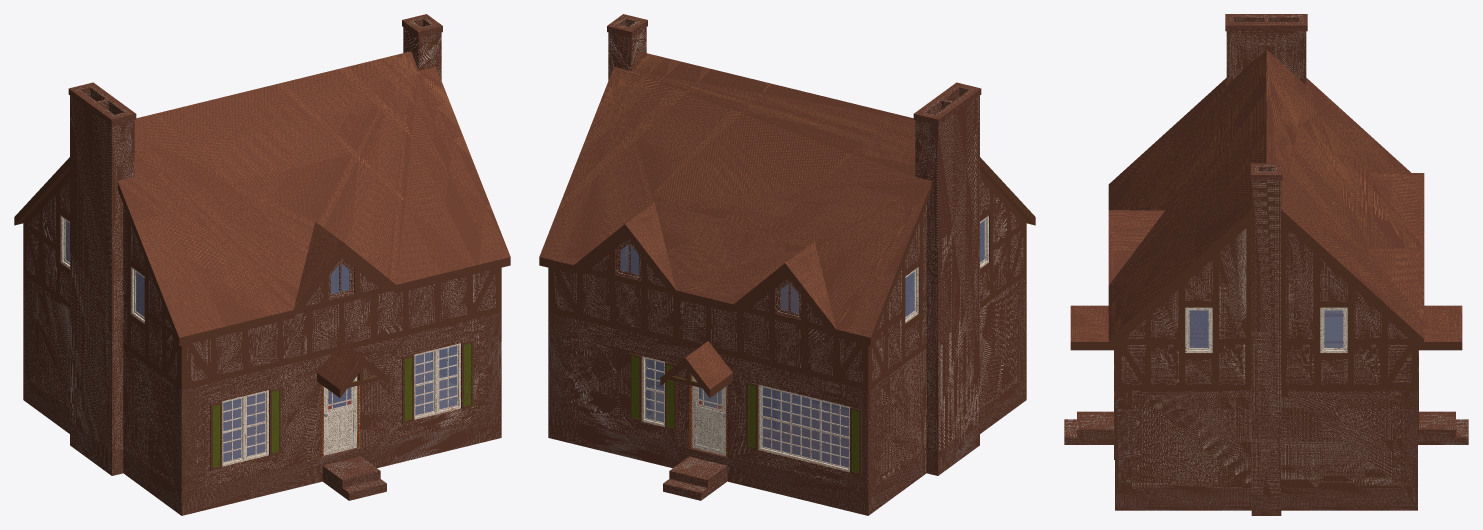
The model's file is Casa.fbx.
3 renders of one model, left to right at view 1: azimuth 30°, elevation 25°; view 2: azimuth 150°, elevation 25°; view 3: azimuth 270°, elevation 25°, orthographic. The views are drawn at different scales.
Parts seen in each view (by area): view 1: Component1, G_36__door2, Component_6_4, Component_6_1, Component_6_3, Component_6_2, Component_1_3, Component_4_2, Component_4_5, Component_4_4, Component_4_6, Component_7_4; view 2: Component1, Component_3_1, G_36__door1, Component_9_1, Component_1_1, Component_1_2, Component_4_1, Component_4_7, Component_4_8, Component_4_3, Component_7_1; view 3: Component1, Component_7_2, Component_7_3.
Boxes of the visible parts, left/top/right/bottom form: Component1: left=14, top=14, right=510, bottom=515; G_36__door2: left=324, top=376, right=357, bottom=455; Component_6_4: left=437, top=343, right=460, bottom=413; Component_6_1: left=245, top=390, right=268, bottom=460; Component_6_3: left=222, top=396, right=244, bottom=466; Component_6_2: left=414, top=349, right=436, bottom=419; Component_1_3: left=328, top=258, right=354, bottom=299; Component_4_2: left=402, top=354, right=414, bottom=423; Component_4_5: left=461, top=340, right=473, bottom=408; Component_4_4: left=210, top=401, right=222, bottom=470; Component_4_6: left=269, top=387, right=281, bottom=455; Component_7_4: left=131, top=267, right=144, bottom=322; Component1: left=539, top=14, right=1035, bottom=515; Component_3_1: left=758, top=384, right=849, bottom=471; G_36__door1: left=692, top=376, right=725, bottom=455; Component_9_1: left=642, top=356, right=664, bottom=426; Component_1_1: left=775, top=278, right=801, bottom=319; Component_1_2: left=615, top=239, right=641, bottom=280; Component_4_1: left=629, top=353, right=641, bottom=421; Component_4_7: left=746, top=381, right=757, bottom=450; Component_4_8: left=850, top=407, right=861, bottom=475; Component_4_3: left=665, top=362, right=676, bottom=430; Component_7_1: left=905, top=267, right=918, bottom=322; Component1: left=1064, top=14, right=1468, bottom=515; Component_7_2: left=1185, top=307, right=1212, bottom=352; Component_7_3: left=1320, top=307, right=1347, bottom=352.
Size of the model in its own units: 9.19 by 9.09 by 9.75.
